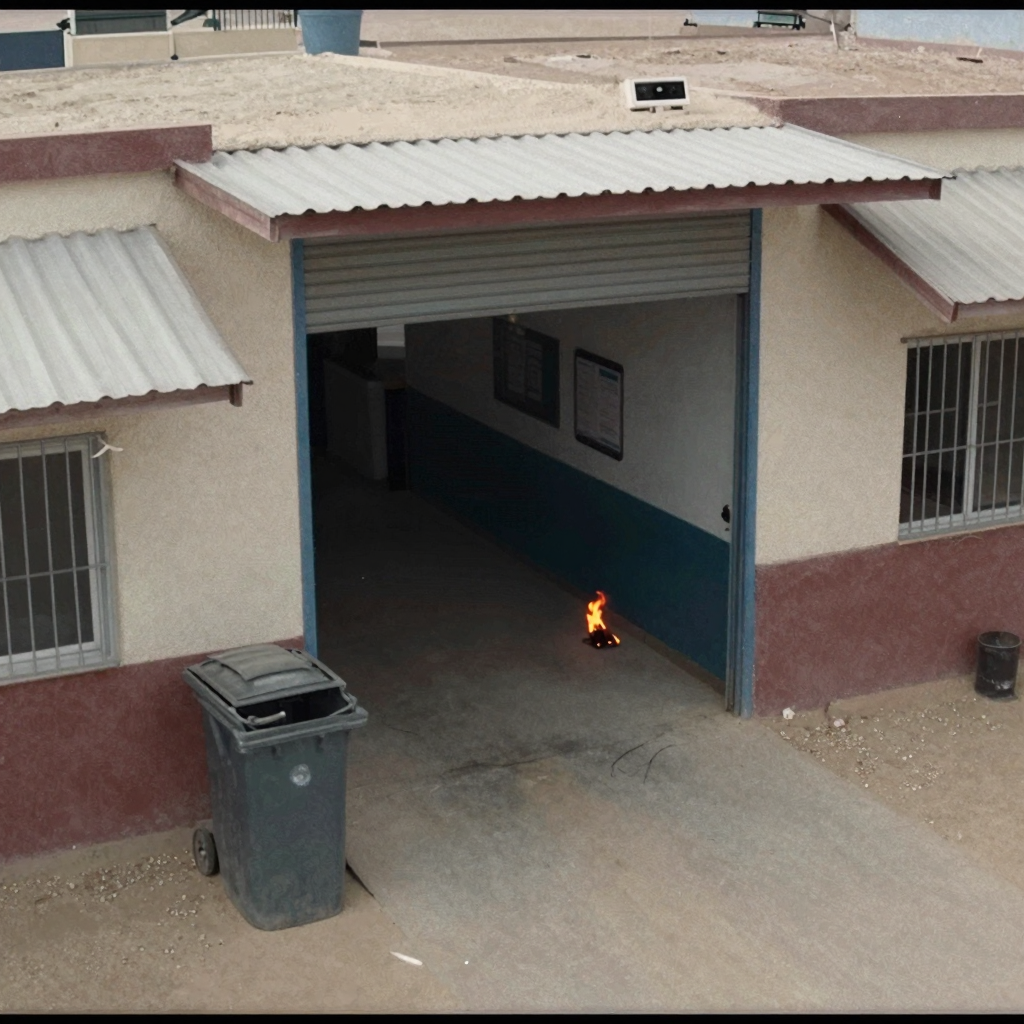Arson: (574, 593, 624, 646)
